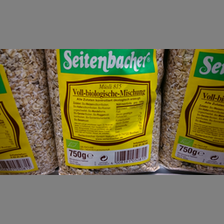cereal: (45, 48, 163, 175), (164, 48, 224, 172), (1, 50, 57, 174)
